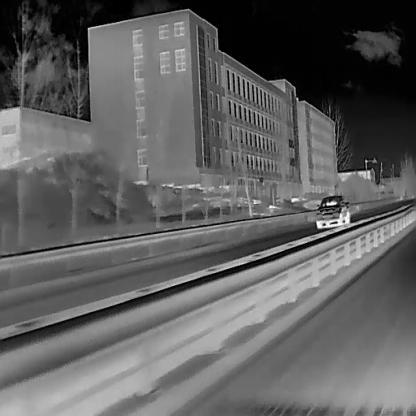car: (314, 194, 351, 229)
